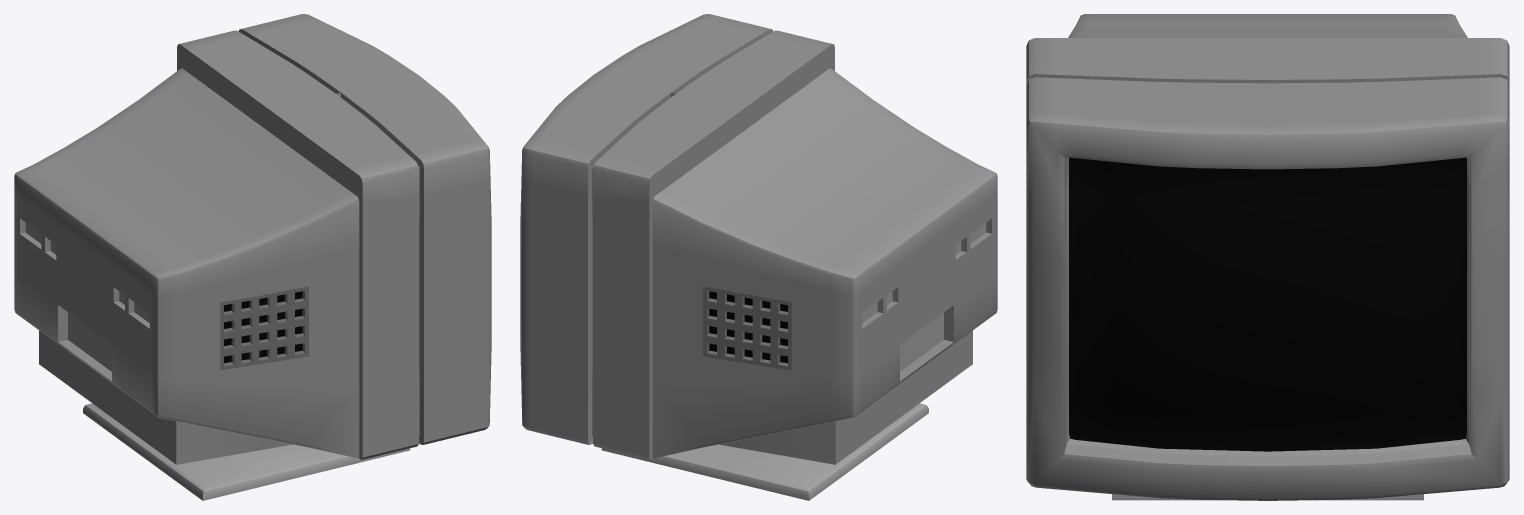
File: Monitor_02.glb
The picture shows the model from 3 angles, left to right: view 1: azimuth 30°, elevation 25°; view 2: azimuth 150°, elevation 25°; view 3: azimuth 270°, elevation 25°; orthographic projection. The views are drawn at different scales.
Parts seen in each view (by area): view 1: Mesh_Monitor_02; view 2: Mesh_Monitor_02; view 3: Mesh_Monitor_02.
Part boxes in pixels (x1,y1,x2,y2): Mesh_Monitor_02: (14, 14, 491, 500); Mesh_Monitor_02: (520, 14, 997, 500); Mesh_Monitor_02: (1026, 14, 1509, 500).
Bounding box in the file's own units: 0.6311 × 0.5629 × 0.5994.
1 material, 1 textured.
